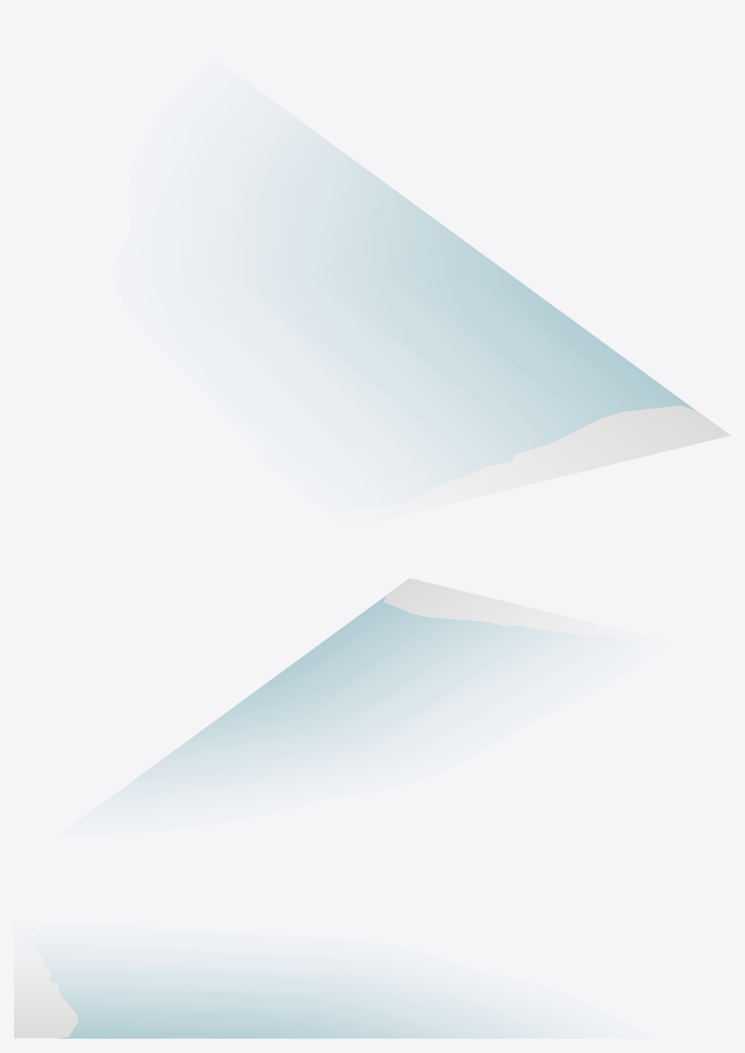
3 renders of one model, top to bottom at view 1: azimuth 30°, elevation 25°; view 2: azimuth 150°, elevation 25°; view 3: azimuth 270°, elevation 25°, orthographic. The views are drawn at different scales.
Visible parts, largest first — view 1: city; view 2: city; view 3: city.
Boxes of the visible parts, box(x1,y1,x2,y2) form: city: box(259, 124, 730, 497); city: box(119, 578, 585, 791); city: box(14, 952, 540, 1038).
Bounding box in the file's own units: 223 × 0.18 × 474.
